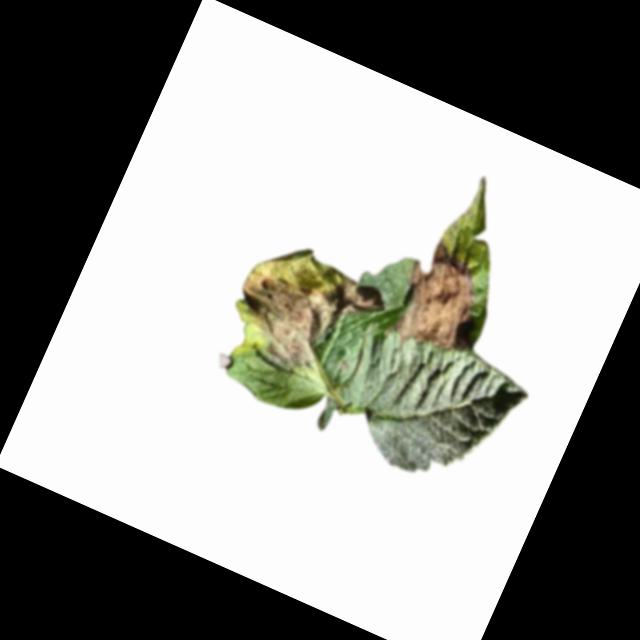Late_blight: (220, 228, 397, 392), (384, 233, 500, 365)
healthy: (332, 316, 532, 502)
